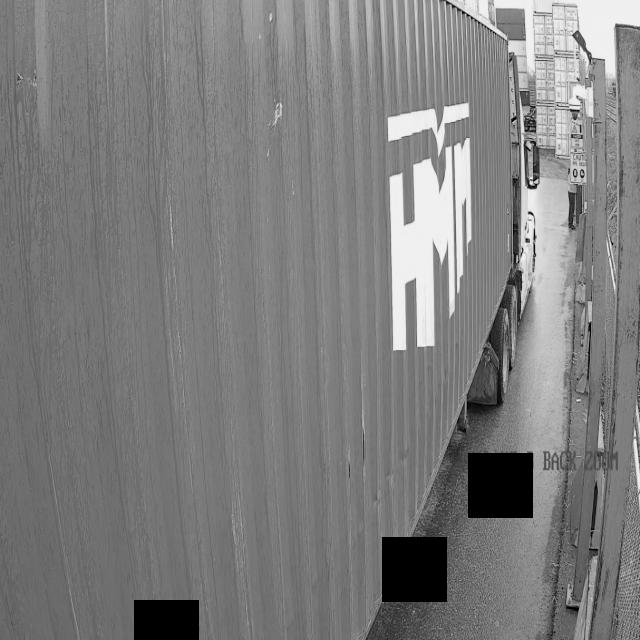truck_with_container: (0, 0, 527, 640)
